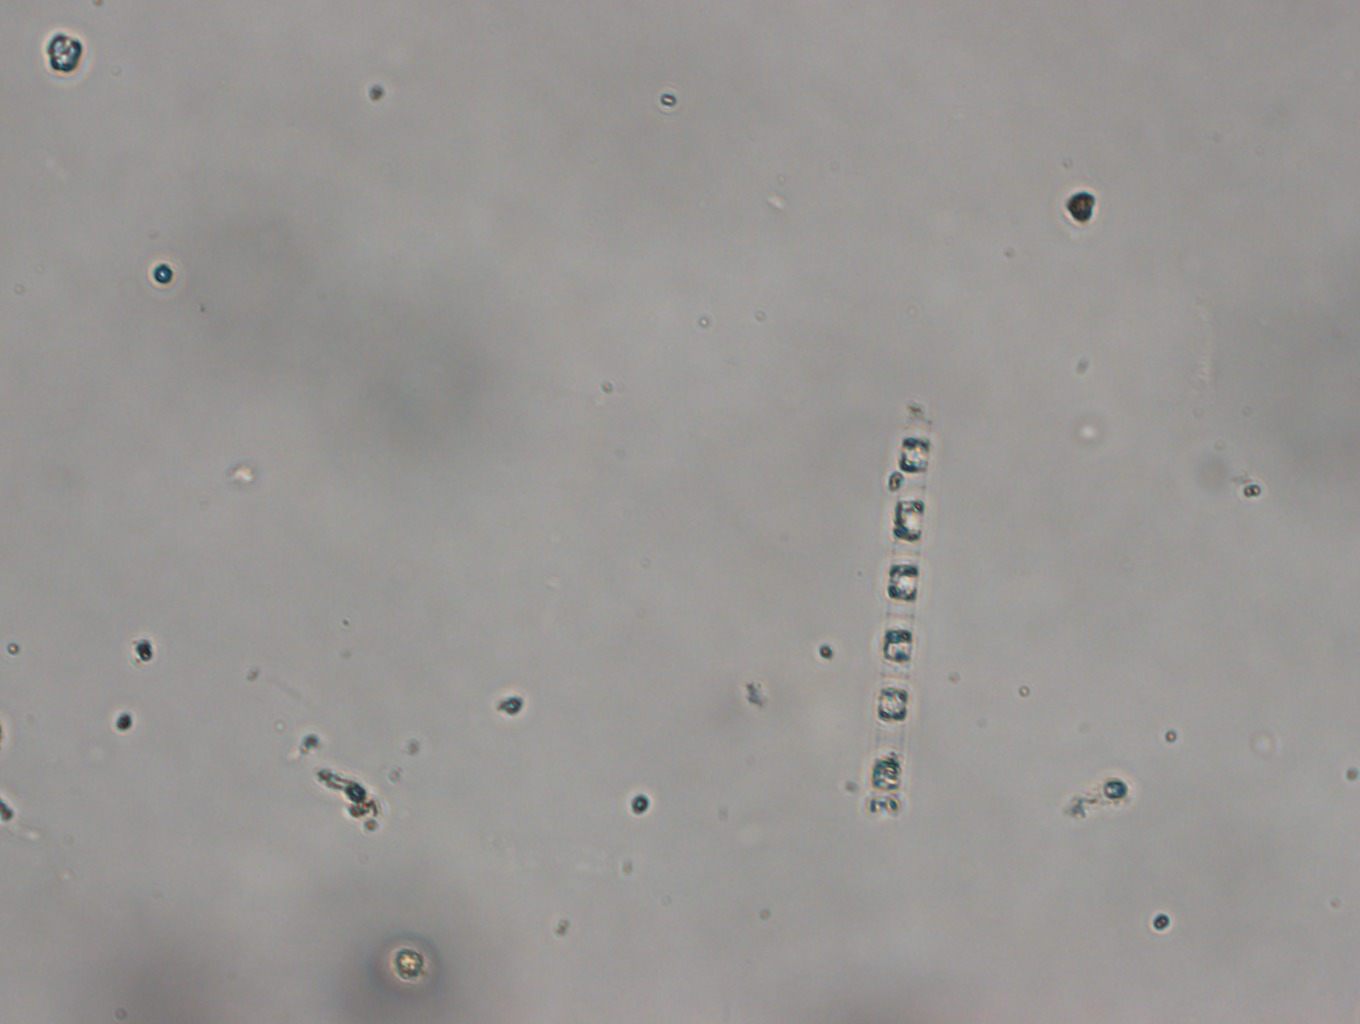skeletonema: (867, 419, 944, 814)
